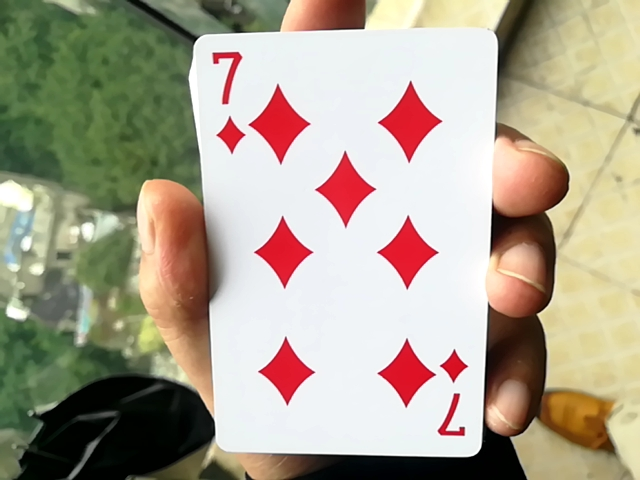fk 7: (178, 13, 499, 460)
